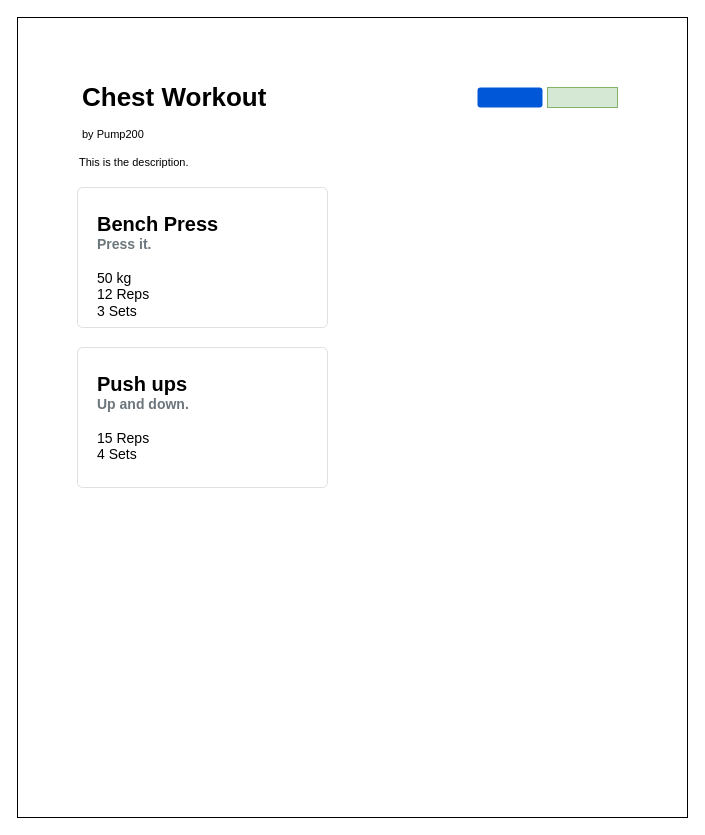
This 705x835 diagram has some shape labels left out. Each missing label, with the centre of its shape:
"100 Upvotes" belongs at point 582,97.
"Copy" belongs at point 509,97.
